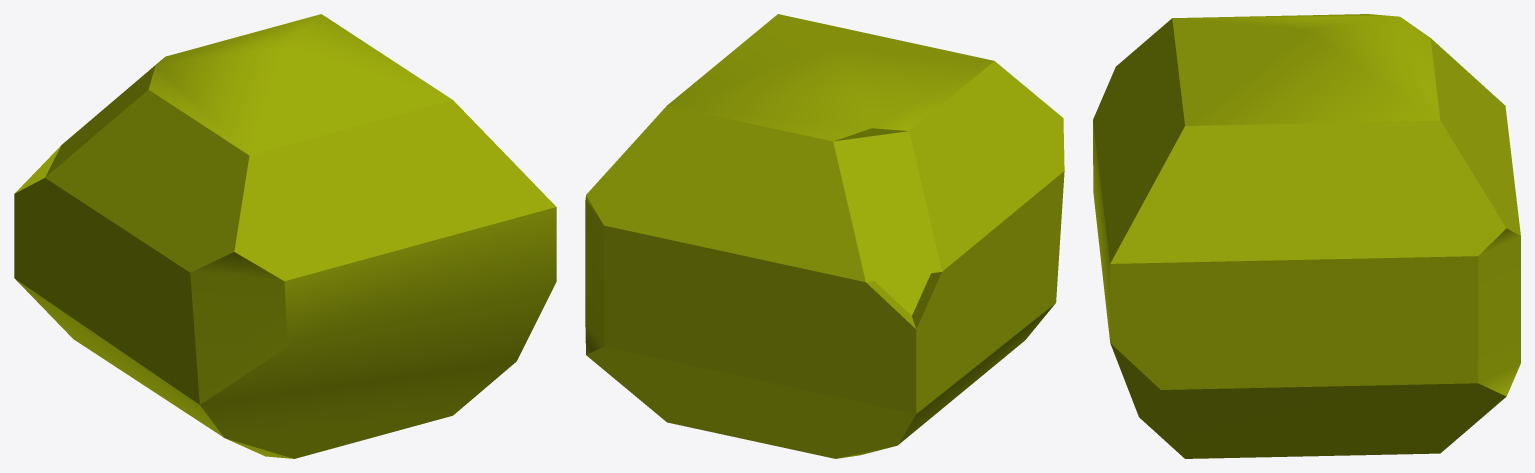
The model's file is Rocks_1.fbx.
The picture shows the model from 3 angles, left to right: view 1: azimuth 30°, elevation 25°; view 2: azimuth 150°, elevation 25°; view 3: azimuth 270°, elevation 25°; orthographic projection. The views are drawn at different scales.
Visible parts, largest first — view 1: MESH_Rocks_1; view 2: MESH_Rocks_1; view 3: MESH_Rocks_1.
Part boxes in pixels (x1,y1,x2,y2): MESH_Rocks_1: (14,14,556,458); MESH_Rocks_1: (585,14,1064,458); MESH_Rocks_1: (1093,14,1520,458).
Size of the model in its own units: 3.57 by 3.74 by 3.52.
